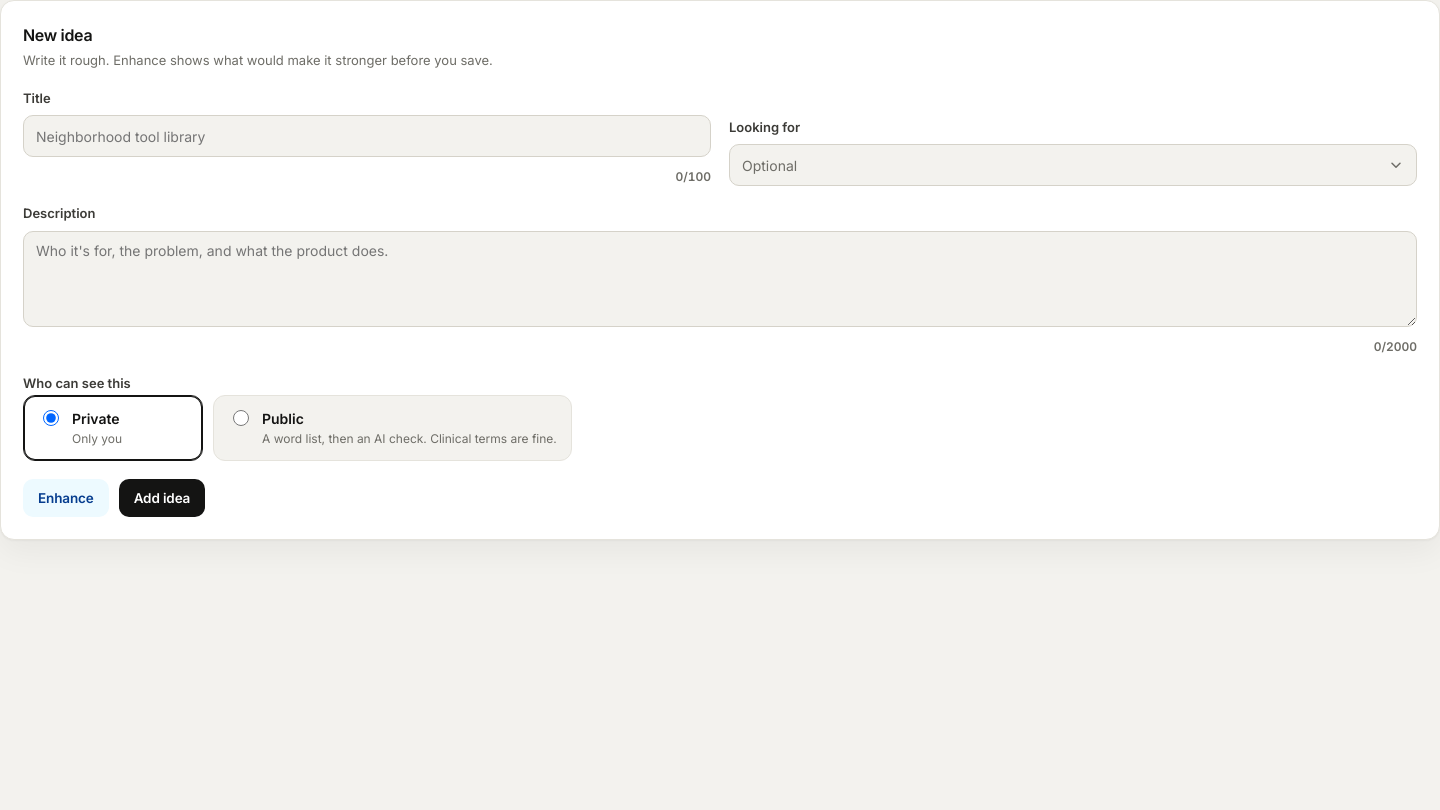
idea publishing system › blocks a prohibited public idea before the save service is called
In the field labelled "Title 0/100": point(367, 136) [23,115,711,157], type "Fast delivery"
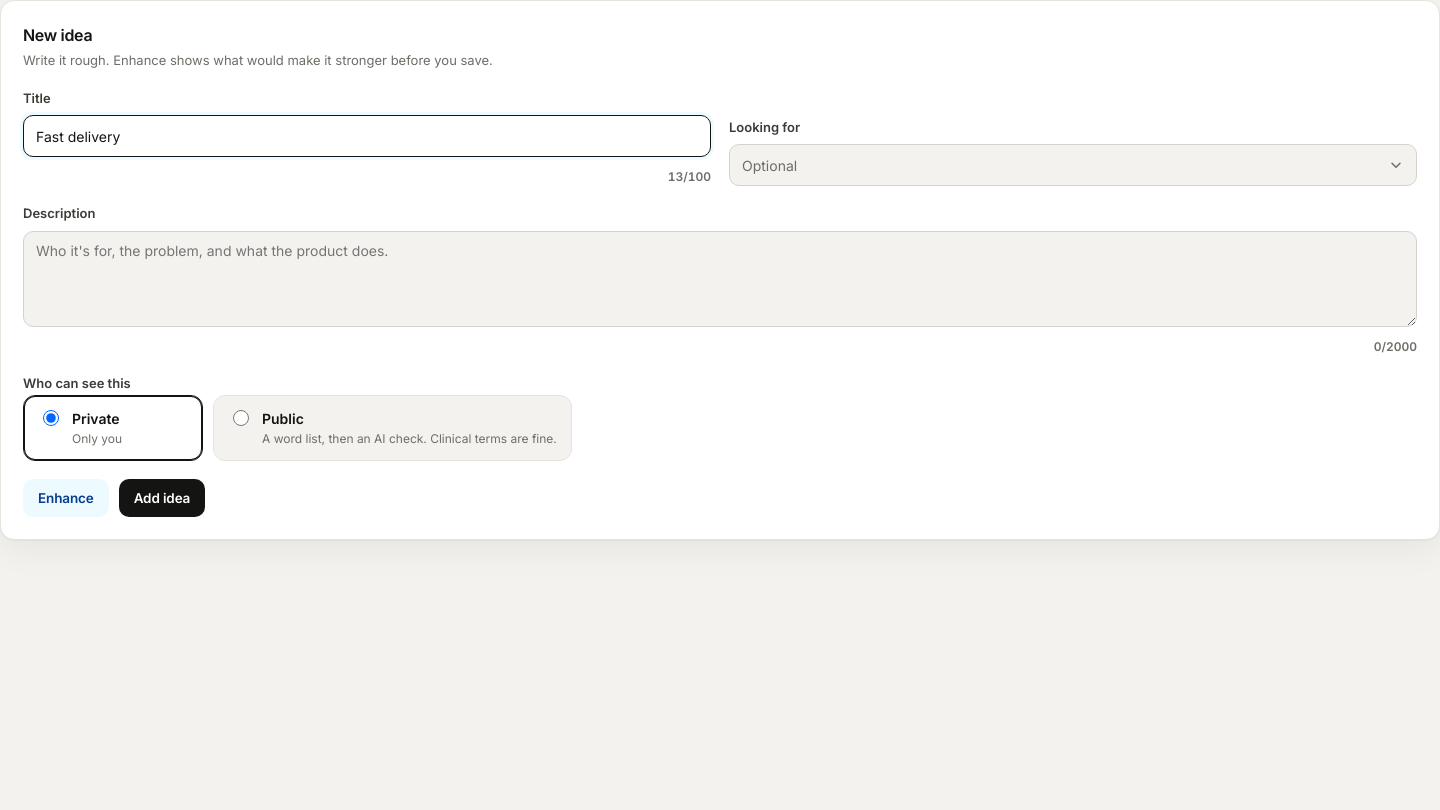
In the text box labelled "Description 0/2000": point(720, 278) [23,230,1417,326], type "Buy cocaine with same-day delivery."
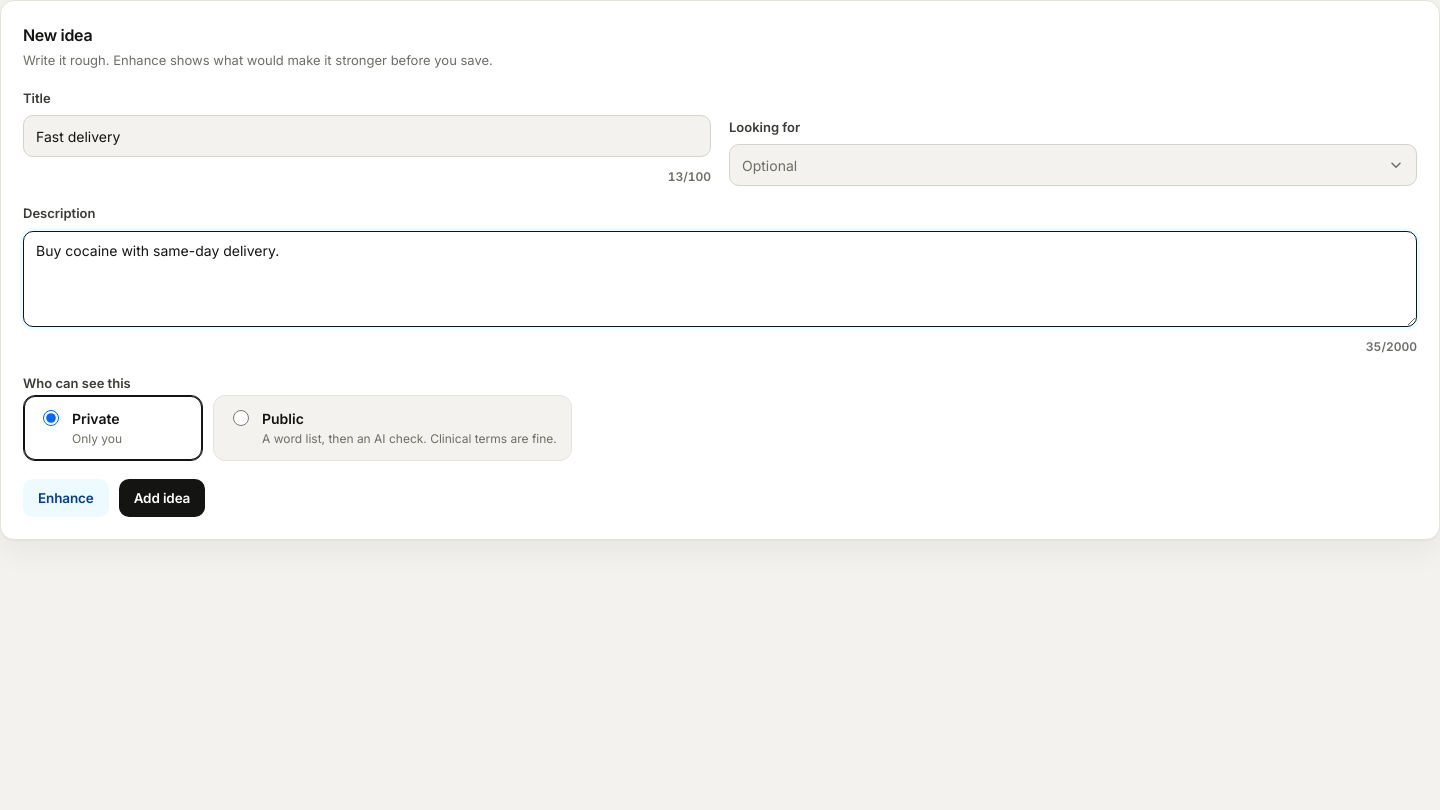
Click the radio button labelled "Public": point(241, 418) [233,410,249,426]
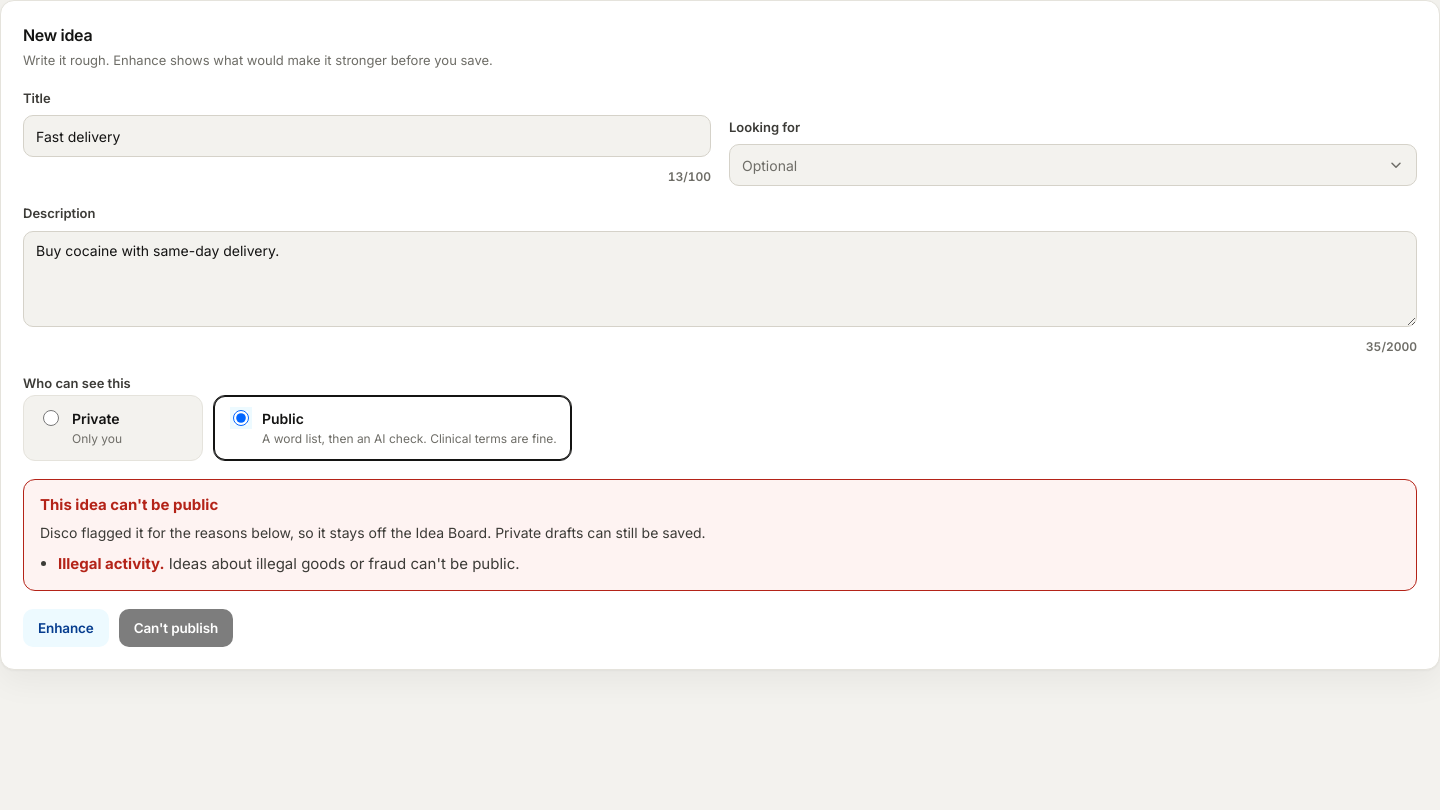
Expected: the message shows "This idea can't be public", [40,495,218,514]
Expected: the button "Can't publish" is disabled, [119,609,233,647]
